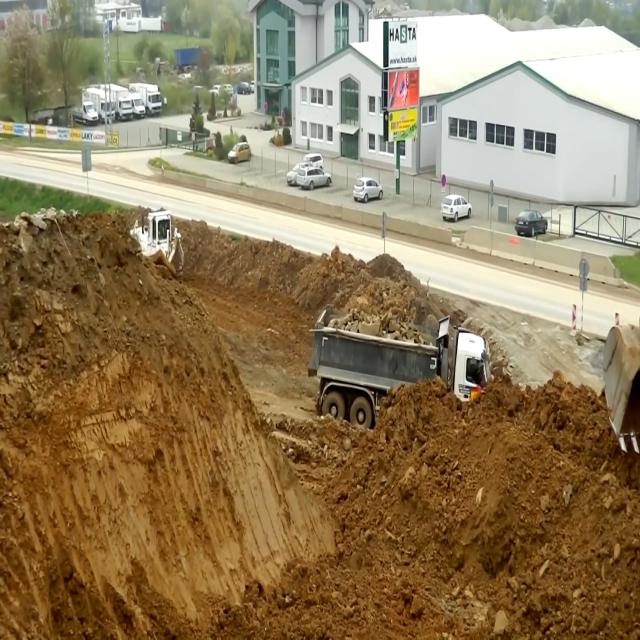Camion volquete: (306, 302, 492, 431)
Cono de seguridad: (508, 237, 520, 245)
Excavadora: (129, 207, 185, 284)
camion: (70, 100, 98, 126)
camion y remolque: (100, 83, 133, 122), (82, 86, 115, 124), (130, 82, 162, 118)
mini-van: (302, 153, 324, 171)
pala cargadora: (178, 65, 192, 84)
sedan: (440, 194, 472, 222), (353, 177, 383, 204), (297, 167, 332, 190), (286, 162, 314, 186), (228, 142, 252, 163), (234, 82, 252, 96), (209, 84, 223, 97), (222, 84, 234, 97), (250, 80, 254, 92)
van: (129, 92, 145, 118)
